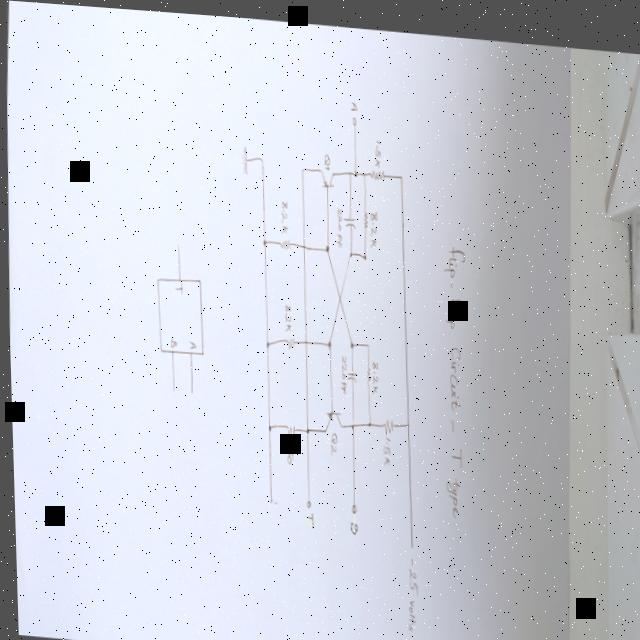capacitor: (341, 209, 355, 224), (344, 363, 355, 378)
crossover: (300, 237, 306, 245), (336, 287, 340, 297), (302, 332, 306, 340)
ground: (240, 138, 248, 170)
junction: (352, 161, 358, 172), (323, 237, 328, 249), (325, 333, 330, 345), (348, 411, 352, 425), (261, 232, 266, 243), (263, 334, 268, 345), (348, 334, 353, 344), (361, 245, 366, 255), (265, 418, 270, 427), (347, 242, 351, 253), (398, 166, 403, 174), (303, 420, 307, 430), (259, 151, 264, 159), (404, 413, 408, 422), (266, 491, 270, 500), (365, 413, 369, 421), (364, 334, 368, 342), (347, 163, 351, 171), (361, 164, 365, 171), (300, 160, 304, 167)
resistor: (380, 410, 392, 429), (369, 161, 385, 175), (278, 231, 290, 245), (283, 418, 294, 433), (283, 330, 293, 345), (362, 204, 367, 222), (364, 358, 368, 376)
terminal: (349, 496, 354, 509), (351, 108, 356, 120), (303, 493, 309, 503), (406, 535, 411, 544), (175, 237, 179, 245), (188, 384, 192, 392), (170, 382, 174, 390)
text: (437, 235, 470, 513), (402, 549, 417, 625), (337, 347, 347, 388), (367, 203, 377, 243), (278, 193, 288, 230), (368, 353, 378, 389), (334, 199, 342, 242), (281, 297, 291, 328), (379, 429, 389, 460), (372, 132, 382, 162), (283, 433, 292, 459), (327, 424, 336, 450), (322, 146, 330, 165), (303, 505, 311, 523), (349, 92, 358, 107), (347, 514, 356, 529), (174, 277, 182, 291), (168, 333, 176, 345), (187, 335, 195, 346)
transistor: (321, 403, 340, 428), (319, 161, 334, 182)
